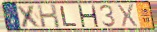3: (99, 4, 117, 28)
H: (36, 4, 62, 30), (76, 4, 100, 28)
L: (59, 5, 79, 27)
X: (15, 4, 43, 29), (117, 3, 139, 28)
